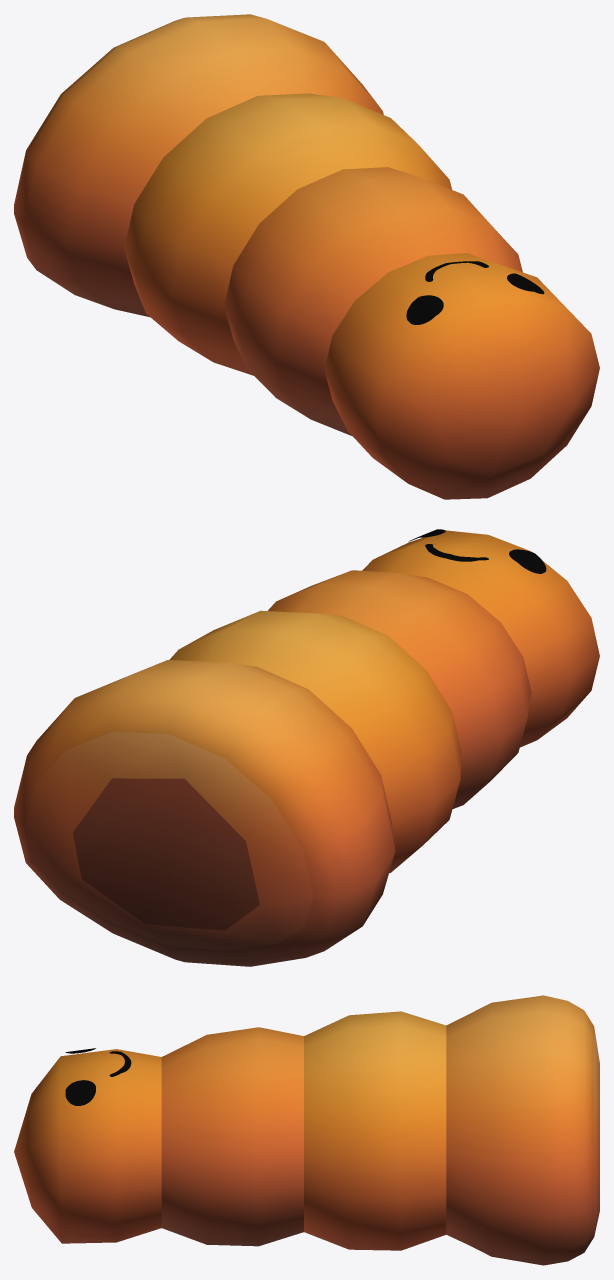
Rendered from pie_smile.fbx.
The picture shows the model from 3 angles, top to bottom: view 1: azimuth 30°, elevation 25°; view 2: azimuth 150°, elevation 25°; view 3: azimuth 270°, elevation 25°; orthographic projection. The views are drawn at different scales.
Visible parts, largest first — view 1: pie_smile; view 2: pie_smile; view 3: pie_smile.
Boxes of the visible parts, x1,y1,x2,y2 form: pie_smile: (14,14,599,499); pie_smile: (14,529,599,966); pie_smile: (14,995,599,1265).
Size of the model in its own units: 33.89 by 25.53 by 58.22.
2 materials, 2 textured.
